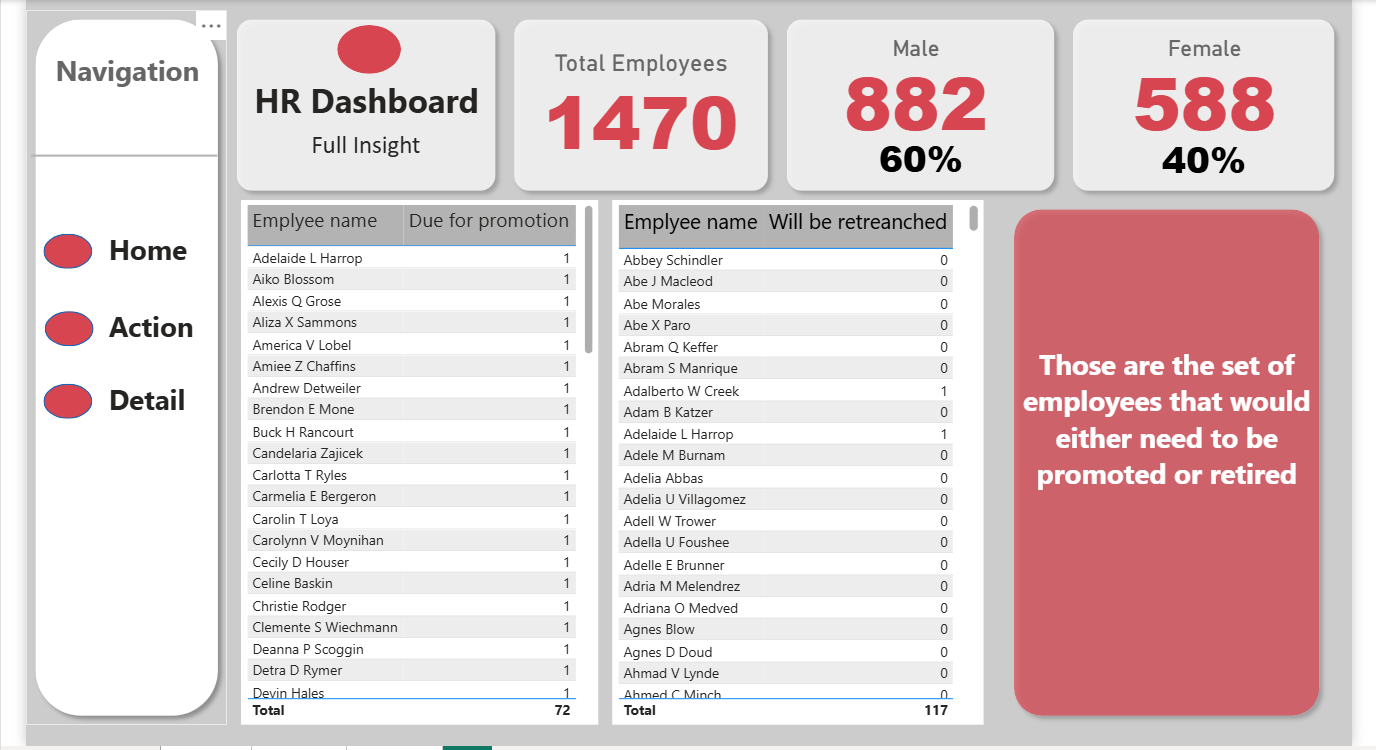

The page's visual inventory and layout, read from the dashboard file:
{"tool":"powerbi","page":{"name":"Action","canvas":[1280,720],"ordinal":1},"visuals":[{"type":"shape","box":[0,9.7,194.2,690.1],"z":0},{"type":"shape","box":[194.2,9.7,267.8,183.4],"z":1000},{"type":"shape","box":[462.1,9.7,263,183.4],"z":2000},{"type":"shape","box":[725.1,9.7,276.3,183.4],"z":3000},{"type":"shape","box":[1001.3,9.7,270.2,183.4],"z":4000},{"type":"textbox","box":[184.6,70,288.3,62.7],"z":5000},{"type":"textbox","box":[270.2,119.4,119.4,42.2],"z":6000},{"type":"shape","box":[300.4,24.1,61.5,47.1],"z":7000},{"type":"card","title":"Total Employees","fields":{"Values":["All Measures.Total Emp"]},"box":[485,47.1,217.2,105],"z":8000},{"type":"card","title":"Male","fields":{"Values":["All Measures.Male"]},"box":[783,33.8,152,98.9],"z":9000},{"type":"card","title":"Female","fields":{"Values":["All Measures.Female"]},"box":[1060.5,33.8,154.4,98.9],"z":10000},{"type":"card","title":"Male","fields":{"Values":["All Measures.%male"]},"box":[818,132.7,91.7,39.8],"z":11000},{"type":"card","title":"Female","fields":{"Values":["All Measures.%female"]},"box":[1044.8,101.3,184.6,105],"z":12000},{"type":"textbox","box":[16.9,44.6,161.7,51.9],"z":13000},{"type":"shape","box":[4.8,0,179.8,300.4],"z":14000},{"type":"tableEx","fields":{"Values":["HR Analytics Data.Emplyee name","All Measures.Due for promotion"]},"box":[207.5,193,345,506.7],"z":15000},{"type":"tableEx","fields":{"Values":["HR Analytics Data.Emplyee name","All Measures.Will be retreanched"]},"box":[565.8,193,358.3,506.7],"z":16000},{"type":"shape","box":[944.6,193,312.5,506.7],"z":17000},{"type":"textbox","box":[950.7,328.2,300.4,152],"z":18000},{"type":"shape","box":[16.9,225.6,47.1,33.8],"z":18001},{"type":"shape","box":[18.1,300.4,47.1,33.8],"z":18002},{"type":"shape","box":[16.9,370.4,47.1,33.8],"z":18003},{"type":"textbox","box":[74.8,217.2,94.1,50.7],"z":18004},{"type":"textbox","box":[74.8,292,94.1,50.7],"z":18005},{"type":"textbox","box":[74.8,361.9,94.1,50.7],"z":18006}]}

Visuals, with their boxes on the page's 1280x720 design canvas (x1, y1, x2, y2). These are canvas units, not pixel positions in the 1376x750 screenshot, which may show the page scaled, cropped or inside an application window:
shape: [0, 10, 194, 700]
shape: [194, 10, 462, 193]
shape: [462, 10, 725, 193]
shape: [725, 10, 1001, 193]
shape: [1001, 10, 1272, 193]
textbox: [185, 70, 473, 133]
textbox: [270, 119, 390, 162]
shape: [300, 24, 362, 71]
"Total Employees" card: [485, 47, 702, 152]
"Male" card: [783, 34, 935, 133]
"Female" card: [1060, 34, 1215, 133]
"Male" card: [818, 133, 910, 172]
"Female" card: [1045, 101, 1229, 206]
textbox: [17, 45, 179, 96]
shape: [5, 0, 185, 300]
tableEx - HR Analytics Data.Emplyee name x All Measures.Due for promotion: [208, 193, 552, 700]
tableEx - HR Analytics Data.Emplyee name x All Measures.Will be retreanched: [566, 193, 924, 700]
shape: [945, 193, 1257, 700]
textbox: [951, 328, 1251, 480]
shape: [17, 226, 64, 259]
shape: [18, 300, 65, 334]
shape: [17, 370, 64, 404]
textbox: [75, 217, 169, 268]
textbox: [75, 292, 169, 343]
textbox: [75, 362, 169, 413]
